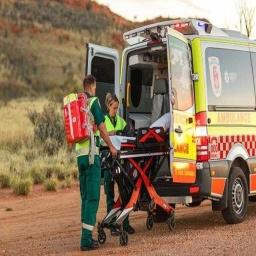Ambulance: (86, 19, 255, 222)
